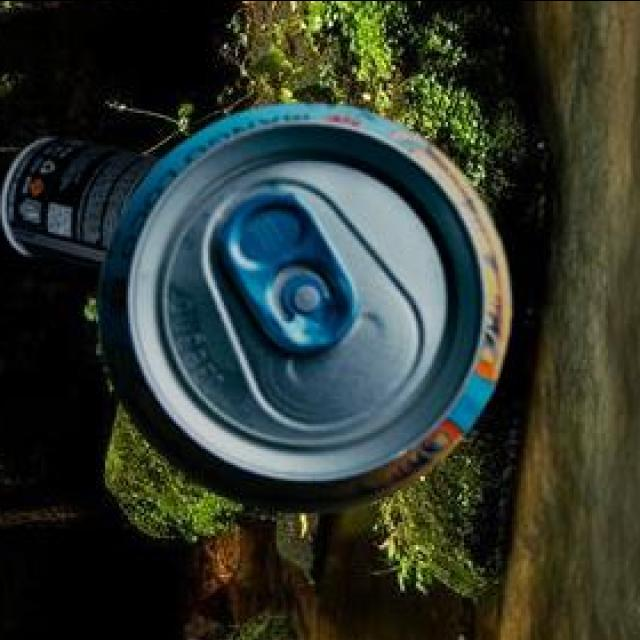logam: (95, 106, 509, 515), (0, 141, 159, 273)
